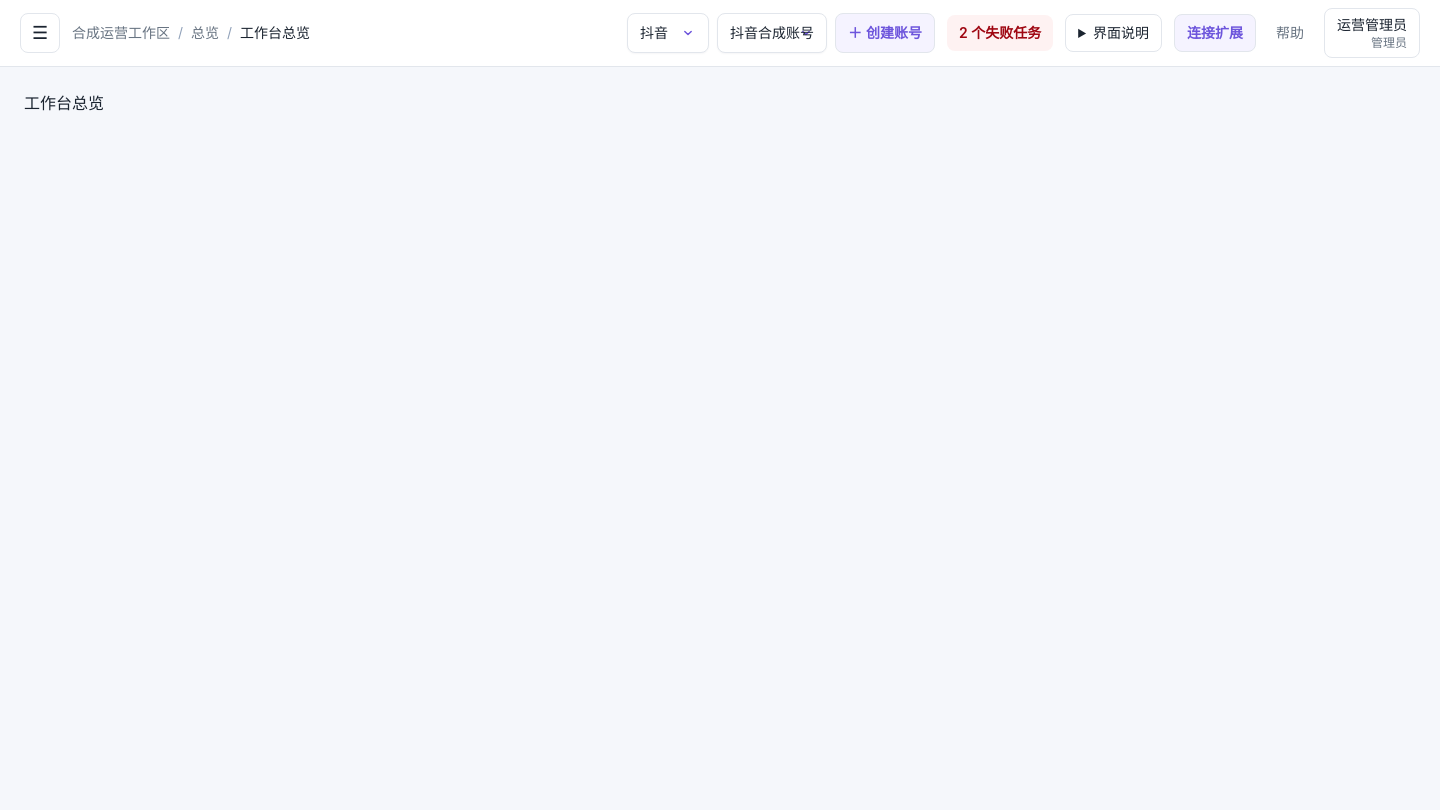
Test: workspace shell behavior › uses category-first mobile navigation from the workspace overview
Click the button named "打开主导航". click: (40, 33)
box: [20,13,60,53]
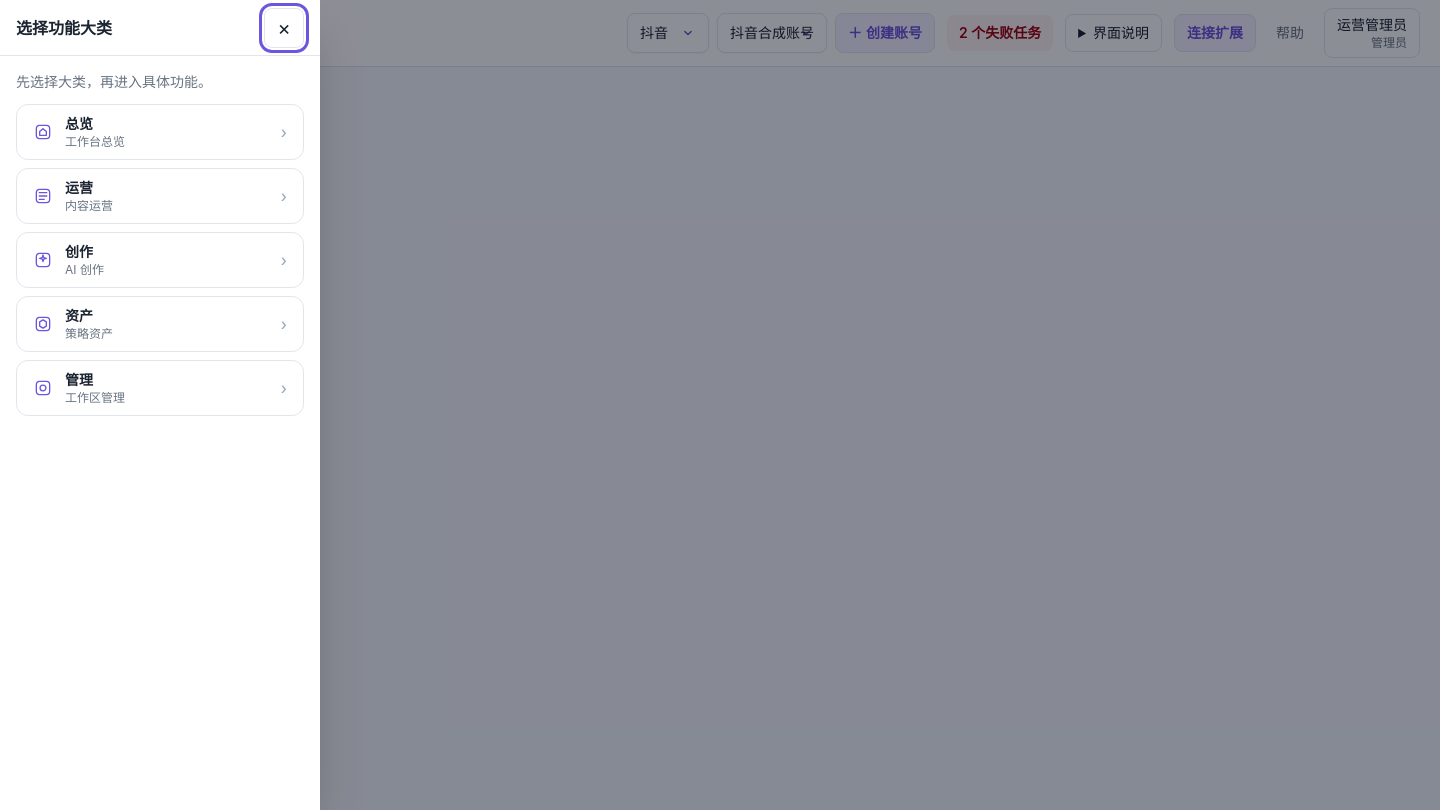
Expected: the link "内容库" is not shown
Result: the navigation bar named "功能大类" is shown at [0,56,320,432]
Click the button "运营 内容运营 ›". click: (89, 206)
box: [16,168,304,224]
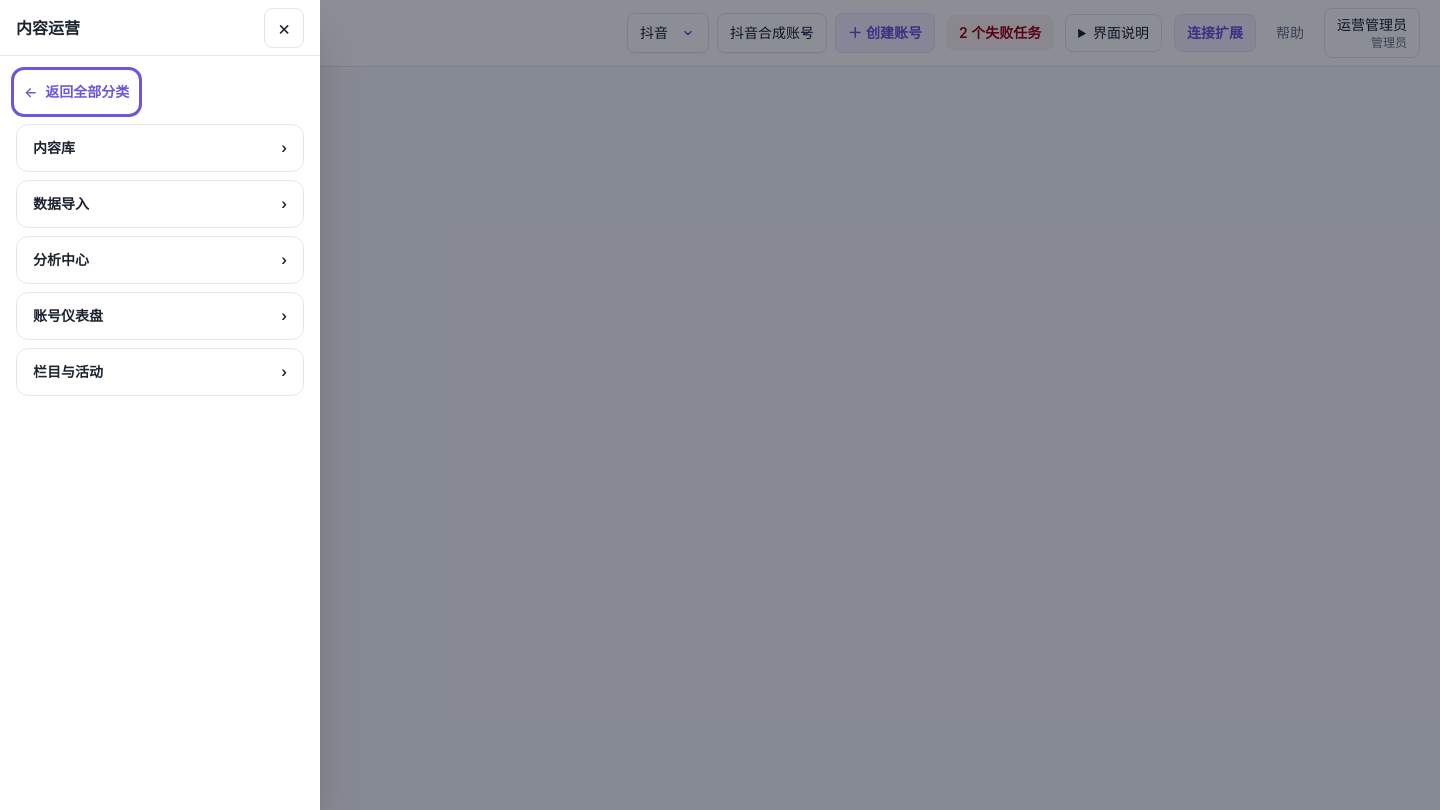
Result: the navigation bar named "内容运营功能" is shown at [0,112,320,408]
Click the button "← 返回全部分类". click: (77, 92)
box: [16,72,137,112]
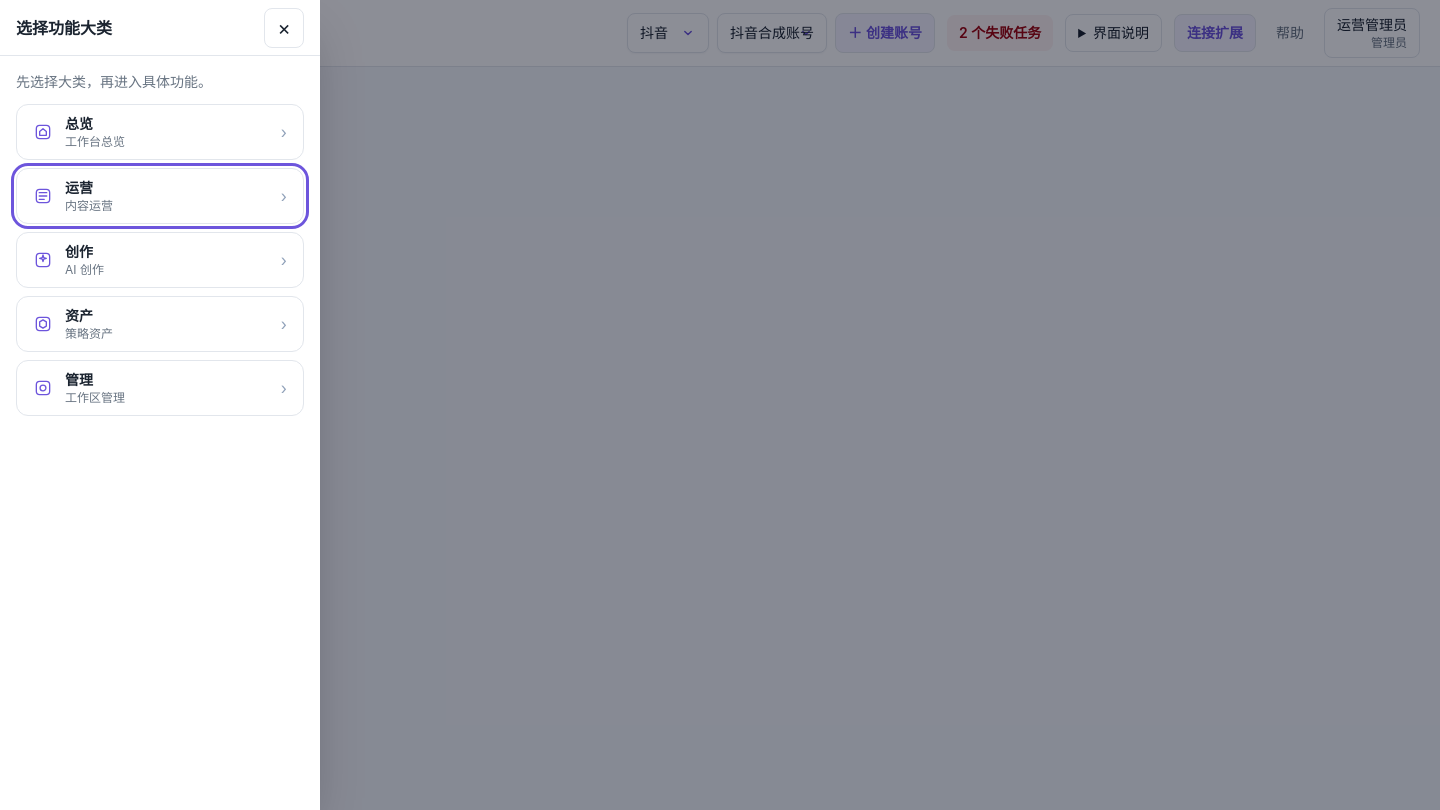
Result: the navigation bar named "功能大类" is shown at [0,56,320,432]
Press Escape
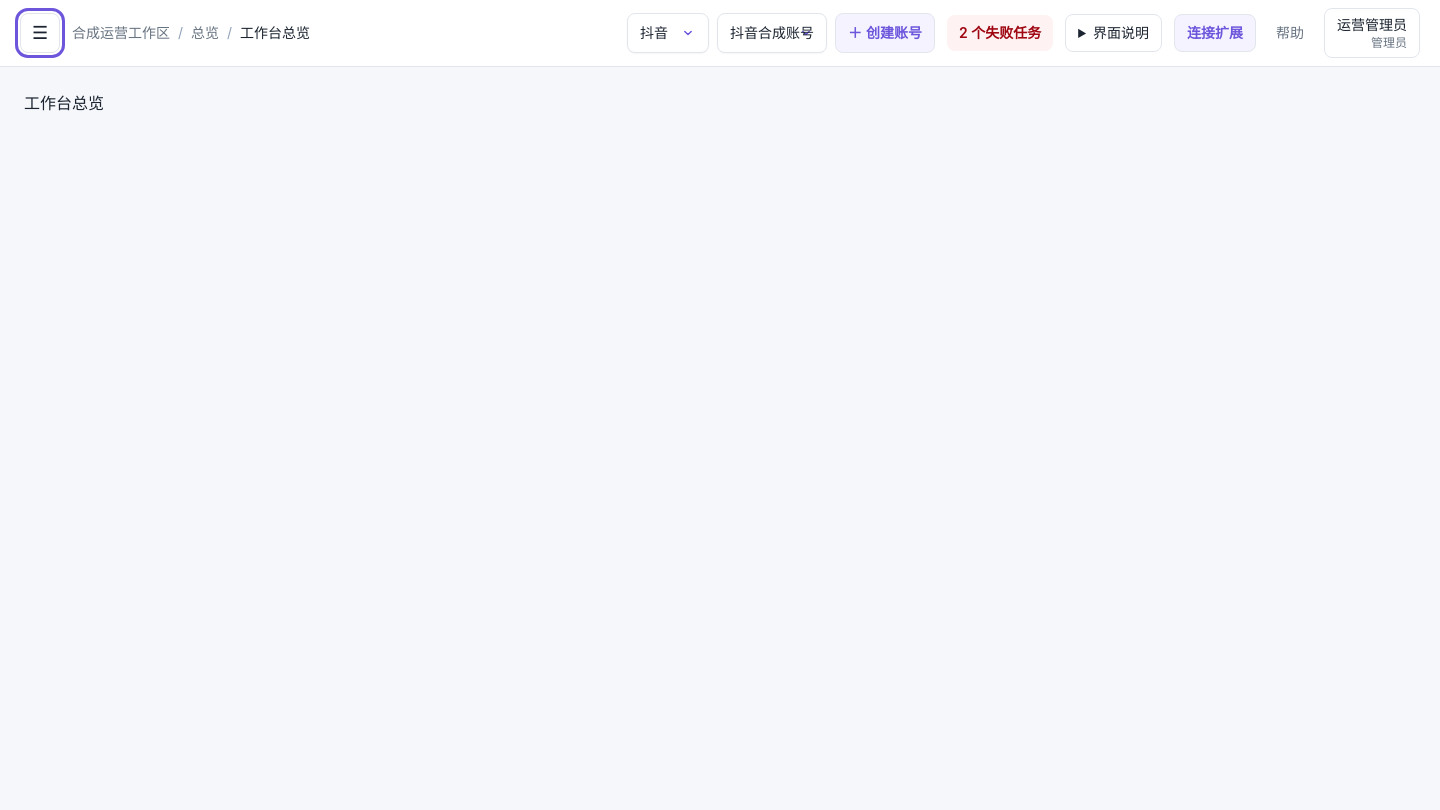
Result: the dialog "主导航" is gone
